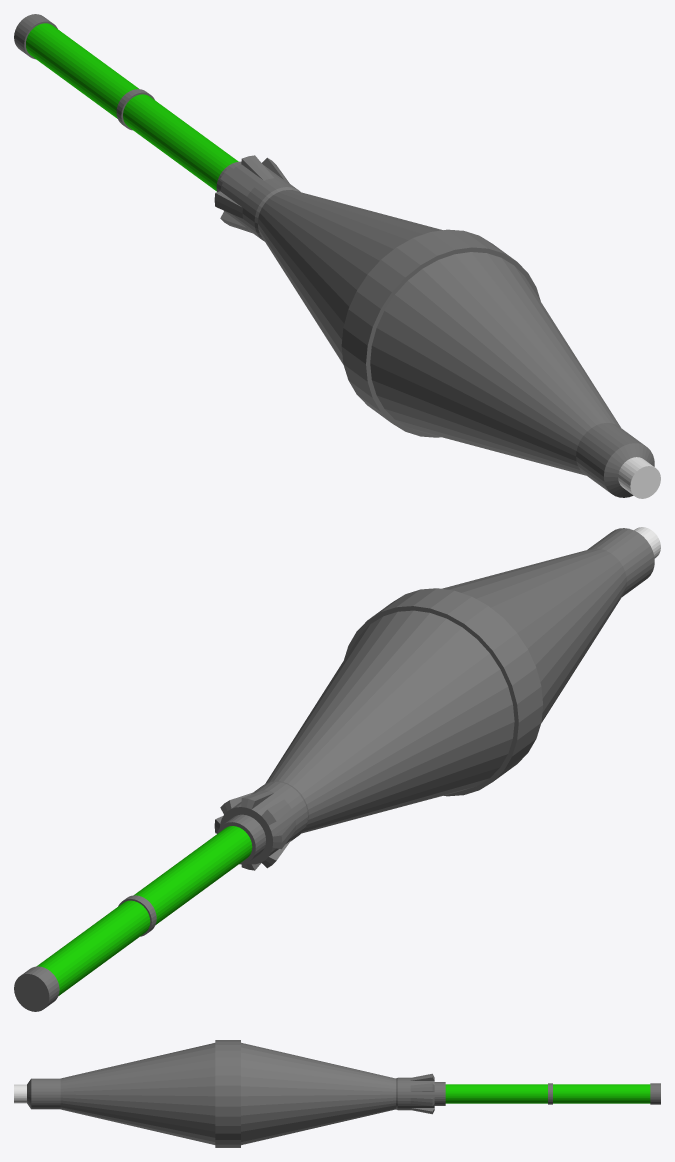
File: rocket.fbx
3 renders of one model, top to bottom at view 1: azimuth 30°, elevation 25°; view 2: azimuth 150°, elevation 25°; view 3: azimuth 270°, elevation 25°, orthographic. The views are drawn at different scales.
Parts seen in each view (by area): view 1: Cylinder.001; view 2: Cylinder.001; view 3: Cylinder.001.
Part boxes in pixels (x1=…): Cylinder.001: x1=14, y1=14, x2=660, y2=498; Cylinder.001: x1=14, y1=527, x2=660, y2=1011; Cylinder.001: x1=14, y1=1040, x2=660, y2=1147.
Bounding box in the file's own units: 60.26 × 60.26 × 362.
